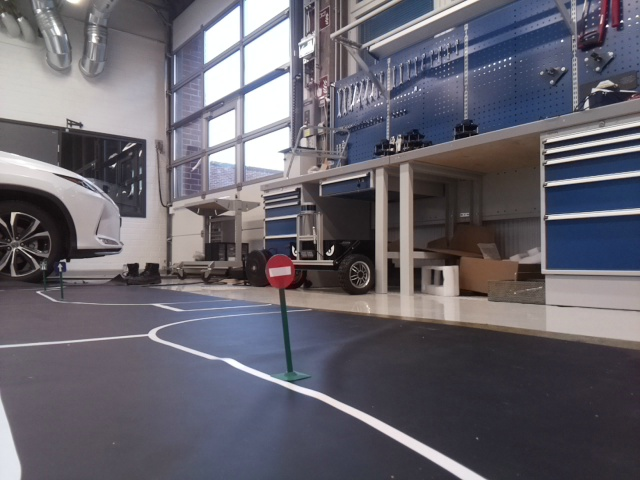NoEntry: (263, 253, 293, 286)
